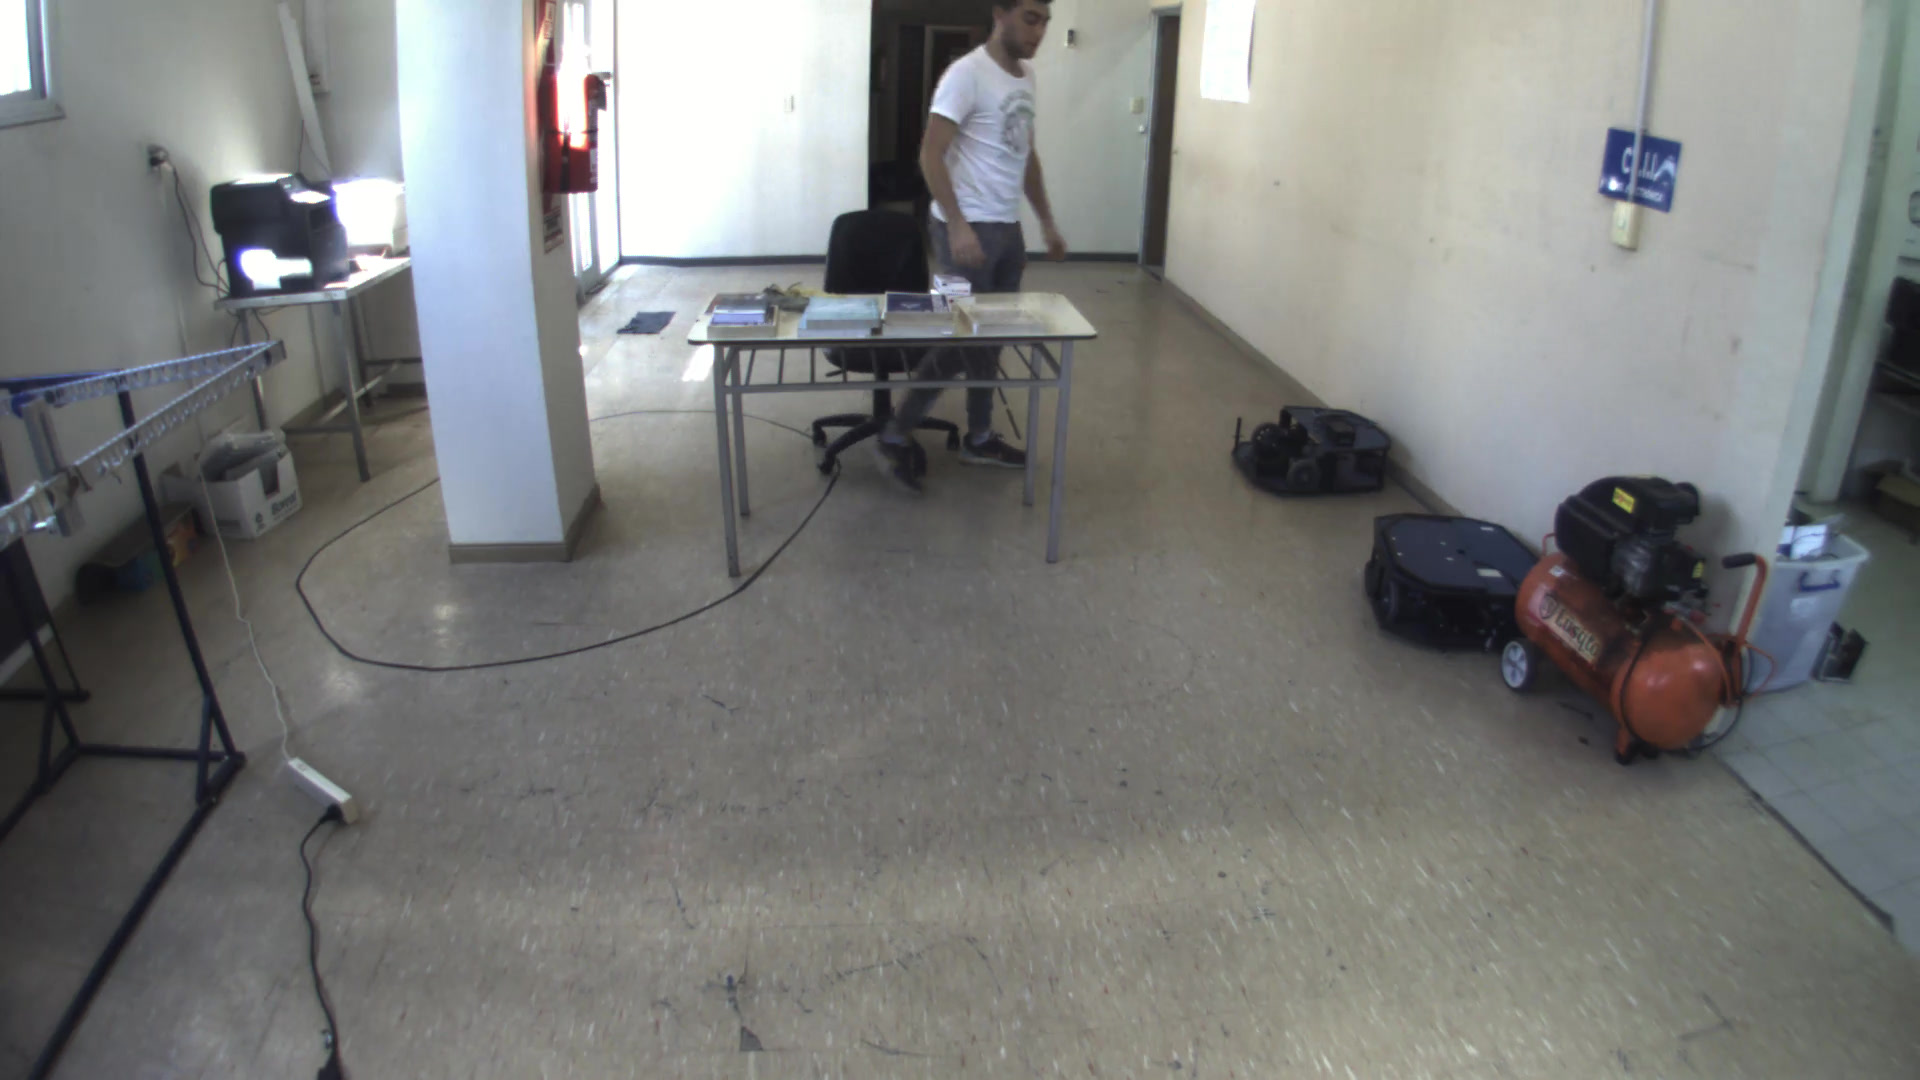hand: (940, 216, 992, 272), (1029, 212, 1072, 265)
